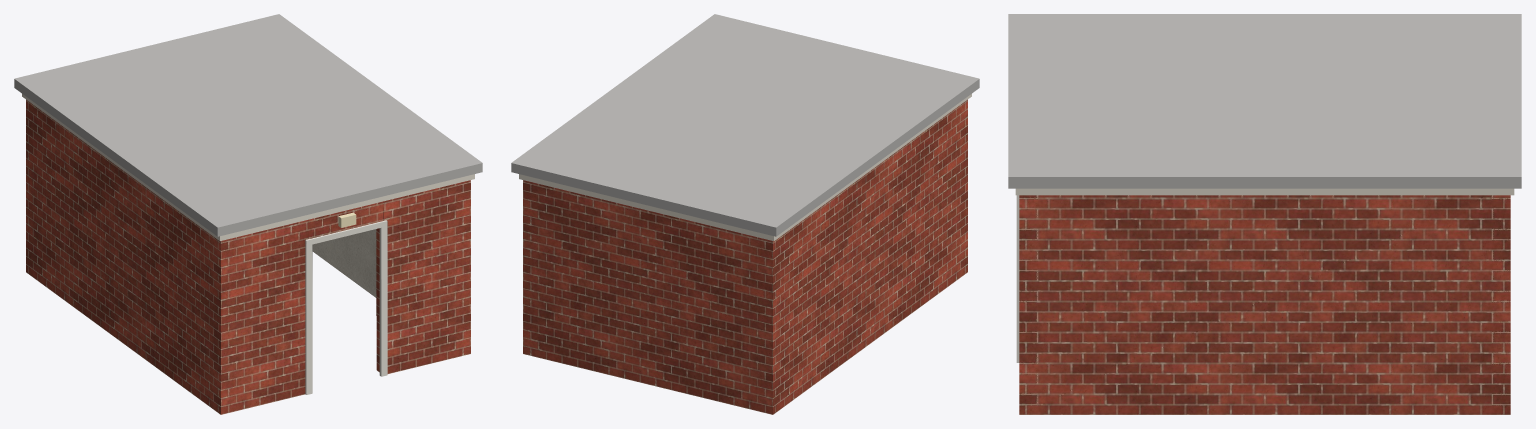
The model's file is roof_stair_hut.glb.
3 renders of one model, left to right at view 1: azimuth 30°, elevation 25°; view 2: azimuth 150°, elevation 25°; view 3: azimuth 270°, elevation 25°, orthographic. The views are drawn at different scales.
Parts seen in each view (by area): view 1: roof_stair_hut_brick, roof_stair_hut_roof, roof_stair_hut_frame, roof_stair_hut_plaster, roof_stair_hut_trim; view 2: roof_stair_hut_brick, roof_stair_hut_roof, roof_stair_hut_trim; view 3: roof_stair_hut_brick, roof_stair_hut_roof, roof_stair_hut_trim, roof_stair_hut_frame.
Boxes of the visible parts, x1,y1,x2,y2 form: roof_stair_hut_brick: (26, 99, 470, 414); roof_stair_hut_roof: (14, 14, 482, 236); roof_stair_hut_frame: (305, 220, 387, 394); roof_stair_hut_plaster: (312, 229, 376, 297); roof_stair_hut_trim: (22, 94, 474, 241); roof_stair_hut_brick: (523, 99, 967, 414); roof_stair_hut_roof: (511, 14, 979, 236); roof_stair_hut_trim: (519, 94, 971, 241); roof_stair_hut_brick: (1019, 195, 1510, 414); roof_stair_hut_roof: (1008, 14, 1521, 188); roof_stair_hut_trim: (1015, 188, 1514, 195); roof_stair_hut_frame: (1016, 195, 1019, 362).
Size of the model in its own units: 4.24 by 2.94 by 5.64.
Materials: 6 (2 with a texture image).
